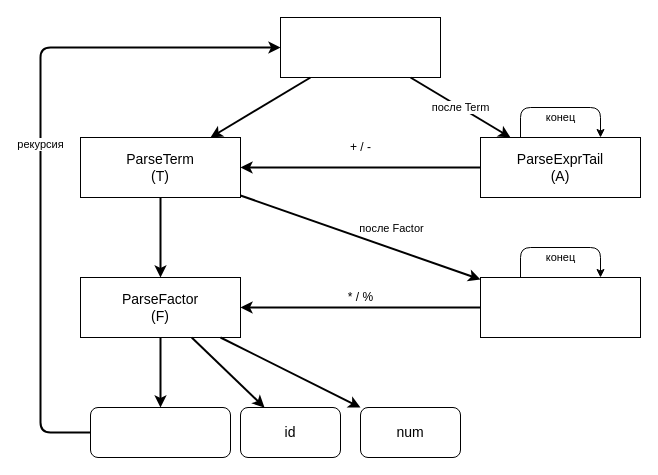
Some shapes in this 658 by 475 pixel diagram are drawn without their labels. Each missing label, with the centre of its shape:
"( ParseExpr )" belongs at pixel 160 432.
"ParseExpr (E)" belongs at pixel 360 47.
"ParseTermTail (B)" belongs at pixel 560 307.
